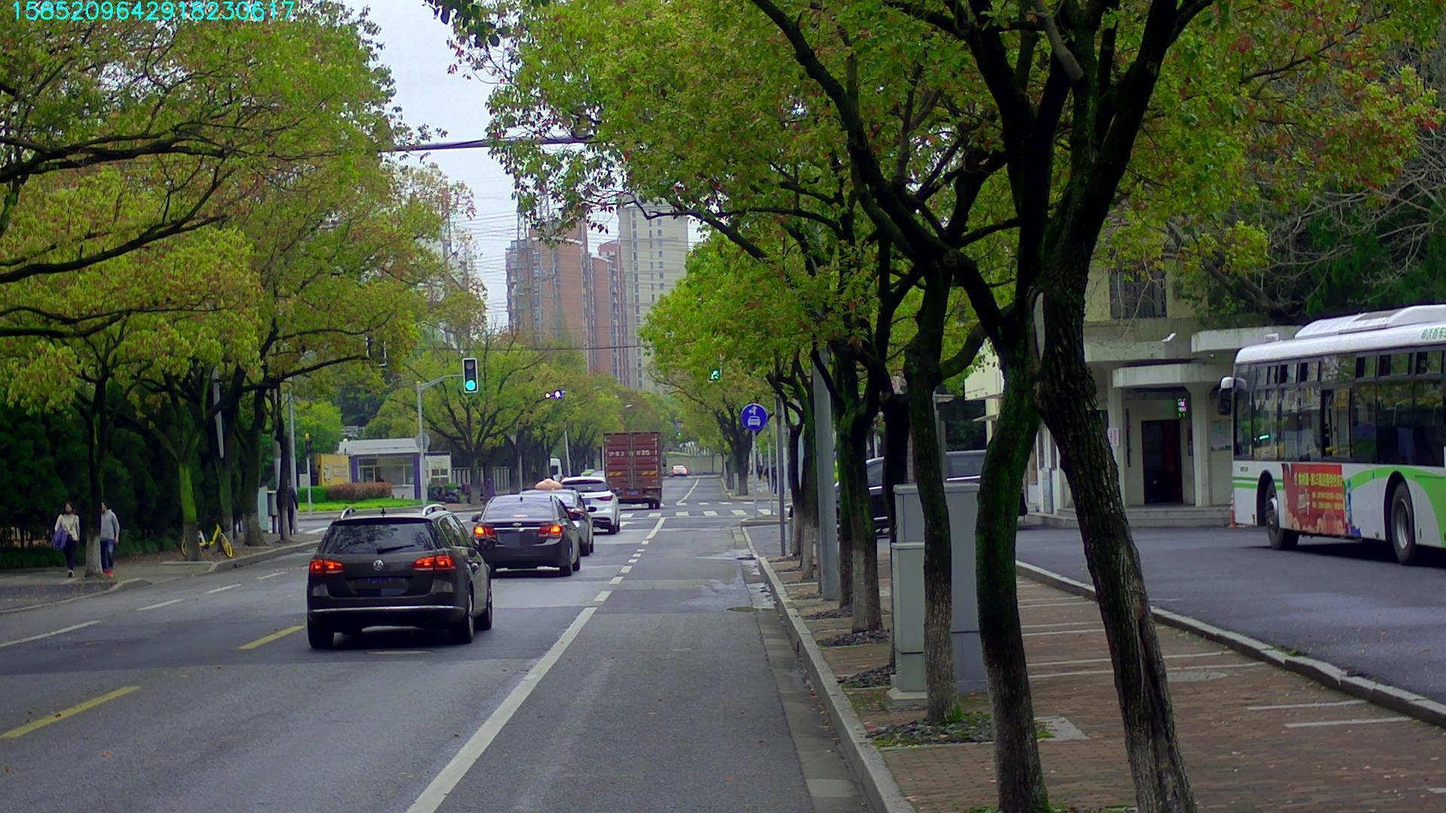green: (706, 345, 721, 381), (462, 358, 476, 391)
